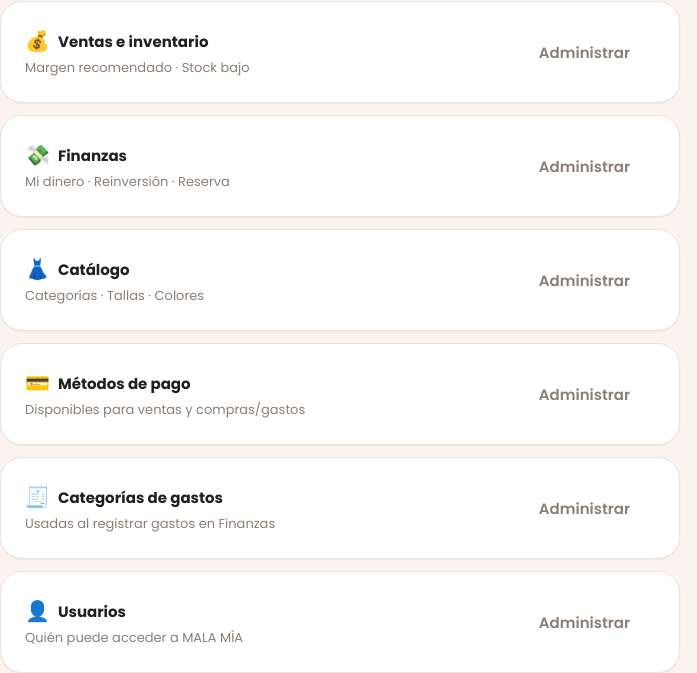
Test: SettingsPage › en Usuarios, el propio usuario no puede desactivarse
This screenshot has width=697, height=673.
(page scrolled)
Click the button "Administrar" in the row of "Quién puede acceder a MALA MÍA".
click(584, 622)  # box [514,600,655,644]
(page scrolled)
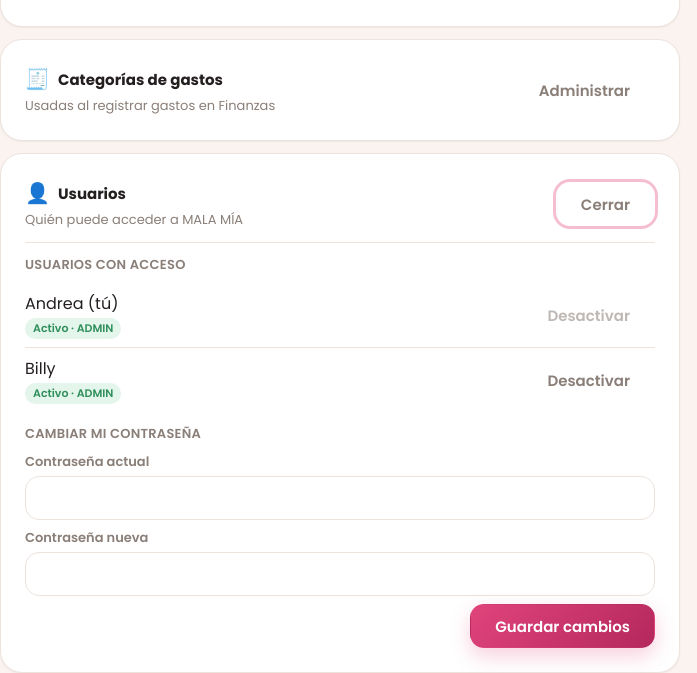
Expected: the text "Andrea (tú)" is shown, [25,291,122,316]
Expected: the button "Desactivar" in the row of "(tú)" is disabled, [522,293,655,337]
Expected: the button "Desactivar" in the row of "Billy" is enabled, [522,358,655,402]
